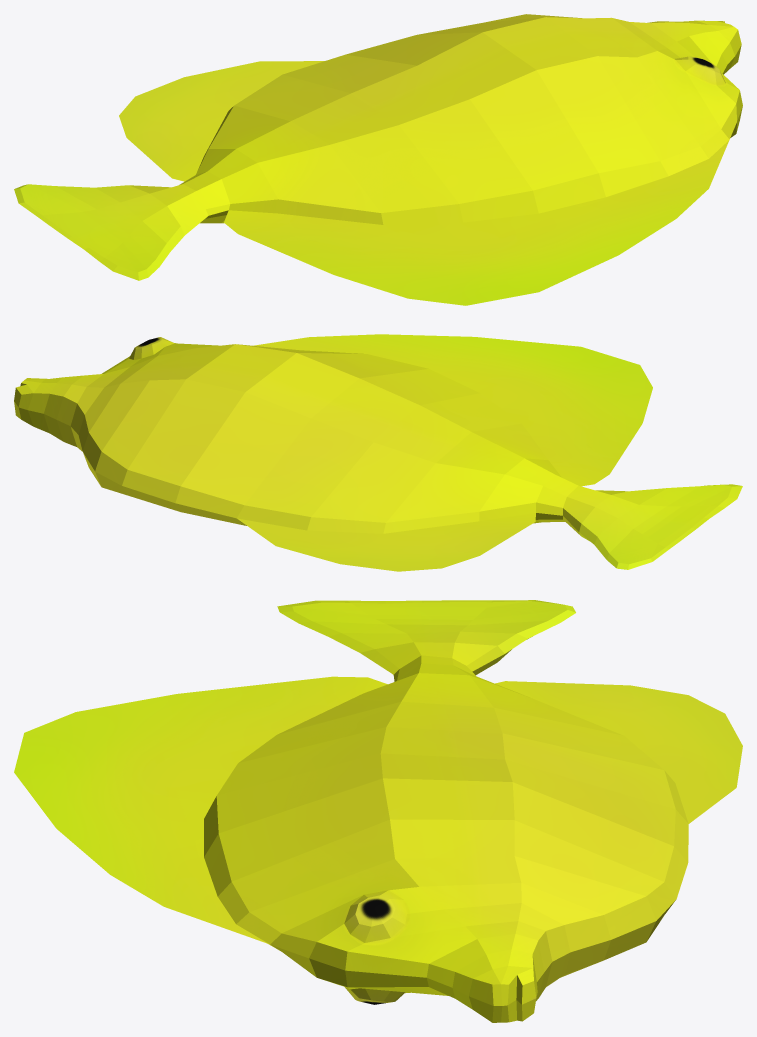
File: tang.glb
The picture shows the model from 3 angles, top to bottom: view 1: azimuth 30°, elevation 25°; view 2: azimuth 150°, elevation 25°; view 3: azimuth 270°, elevation 25°; orthographic projection. The views are drawn at different scales.
Visible parts, largest first — view 1: Plane.011; view 2: Plane.011; view 3: Plane.011.
Part boxes in pixels (left/top/right/bottom): Plane.011: left=14, top=14, right=742, bottom=305; Plane.011: left=14, top=334, right=742, bottom=571; Plane.011: left=14, top=600, right=742, bottom=1022.
Bounding box in the file's own units: 1.03 × 0.1957 × 0.7819.
Materials: 1 (1 with a texture image).
